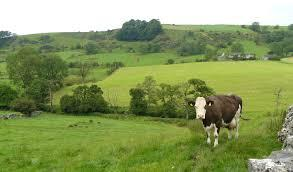cow: (187, 94, 243, 147)
